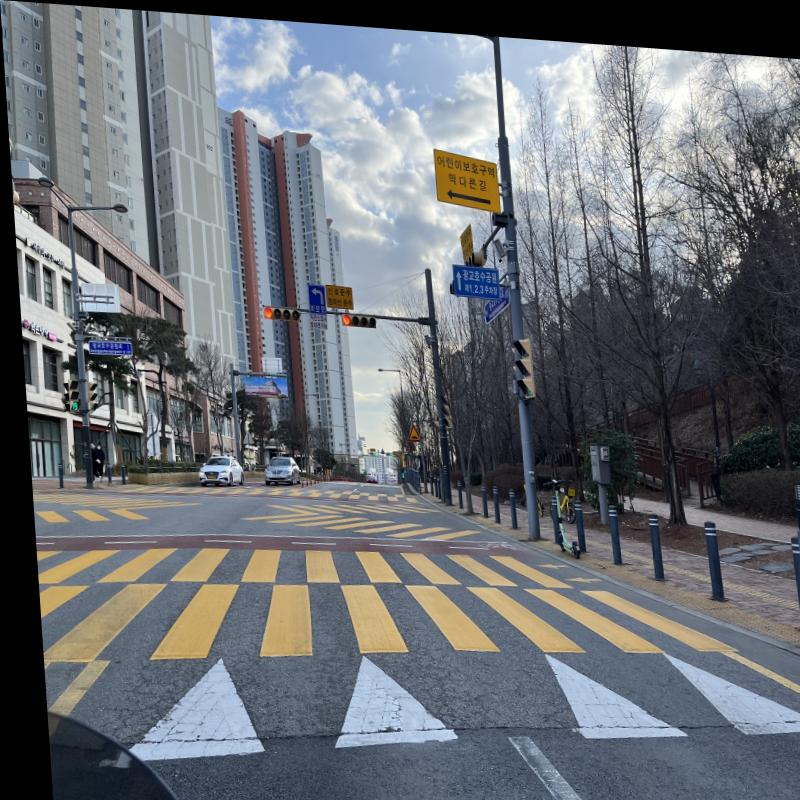red: (259, 303, 269, 315), (337, 309, 347, 320)
